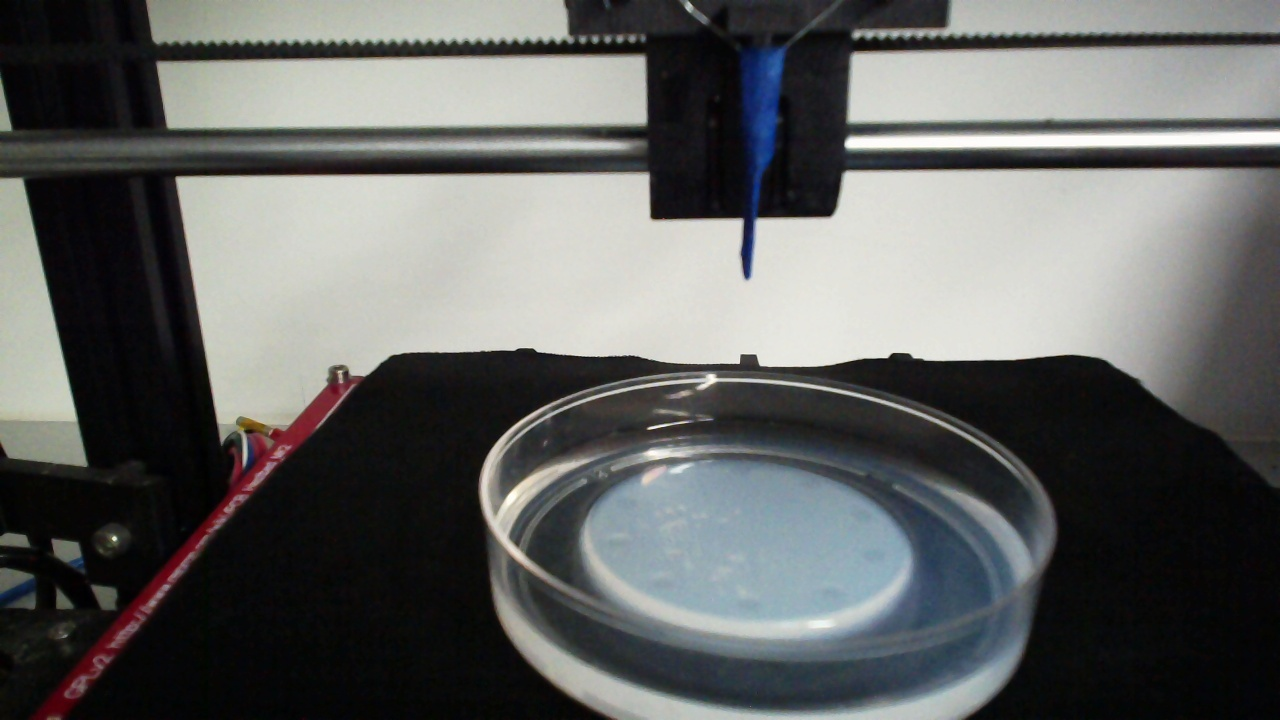groove: (856, 540, 890, 567), (791, 469, 827, 493), (815, 582, 848, 606), (843, 500, 875, 524), (650, 572, 680, 596), (601, 528, 631, 551), (725, 459, 761, 478), (733, 594, 764, 616), (611, 492, 640, 515)
needle: (739, 51, 785, 280)
